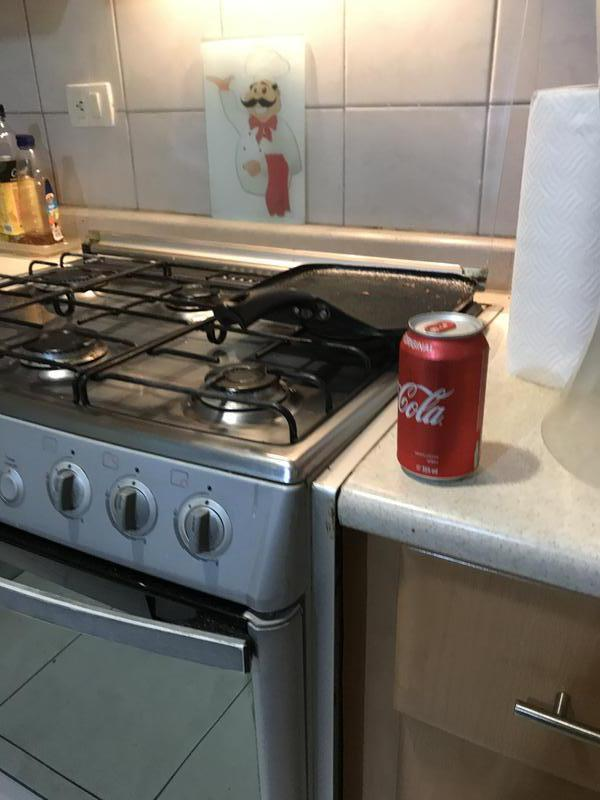coca_cola: (396, 318, 484, 483)
